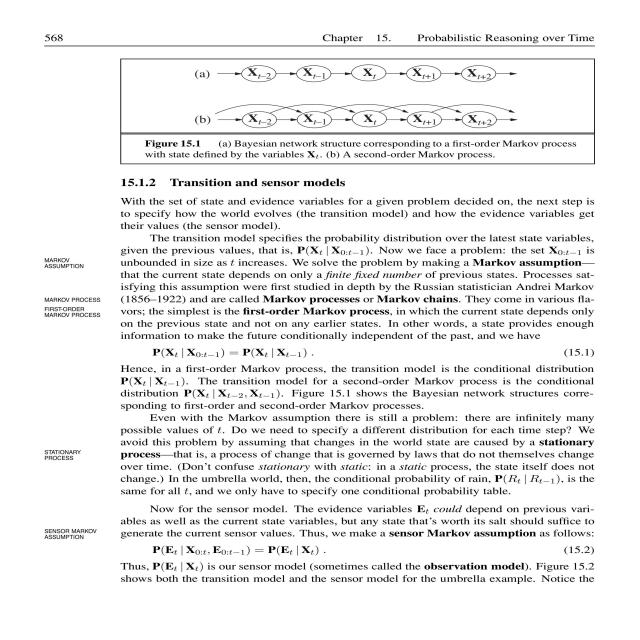diagram: (100, 54, 603, 170)
